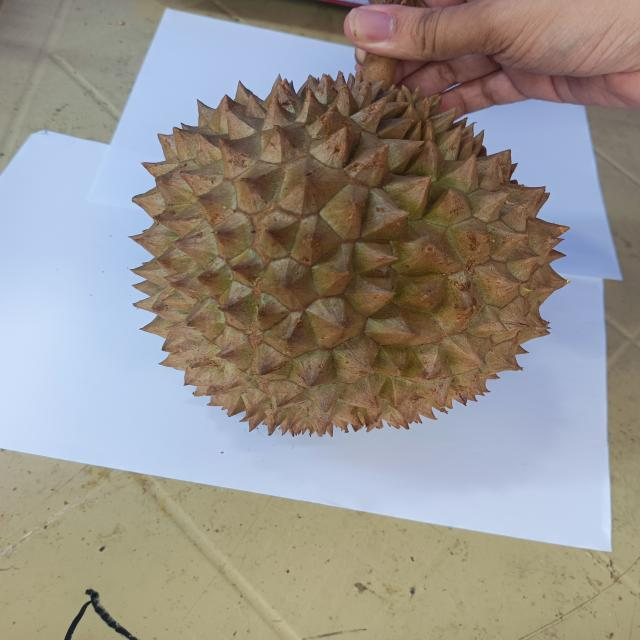mature: (123, 65, 569, 437)
